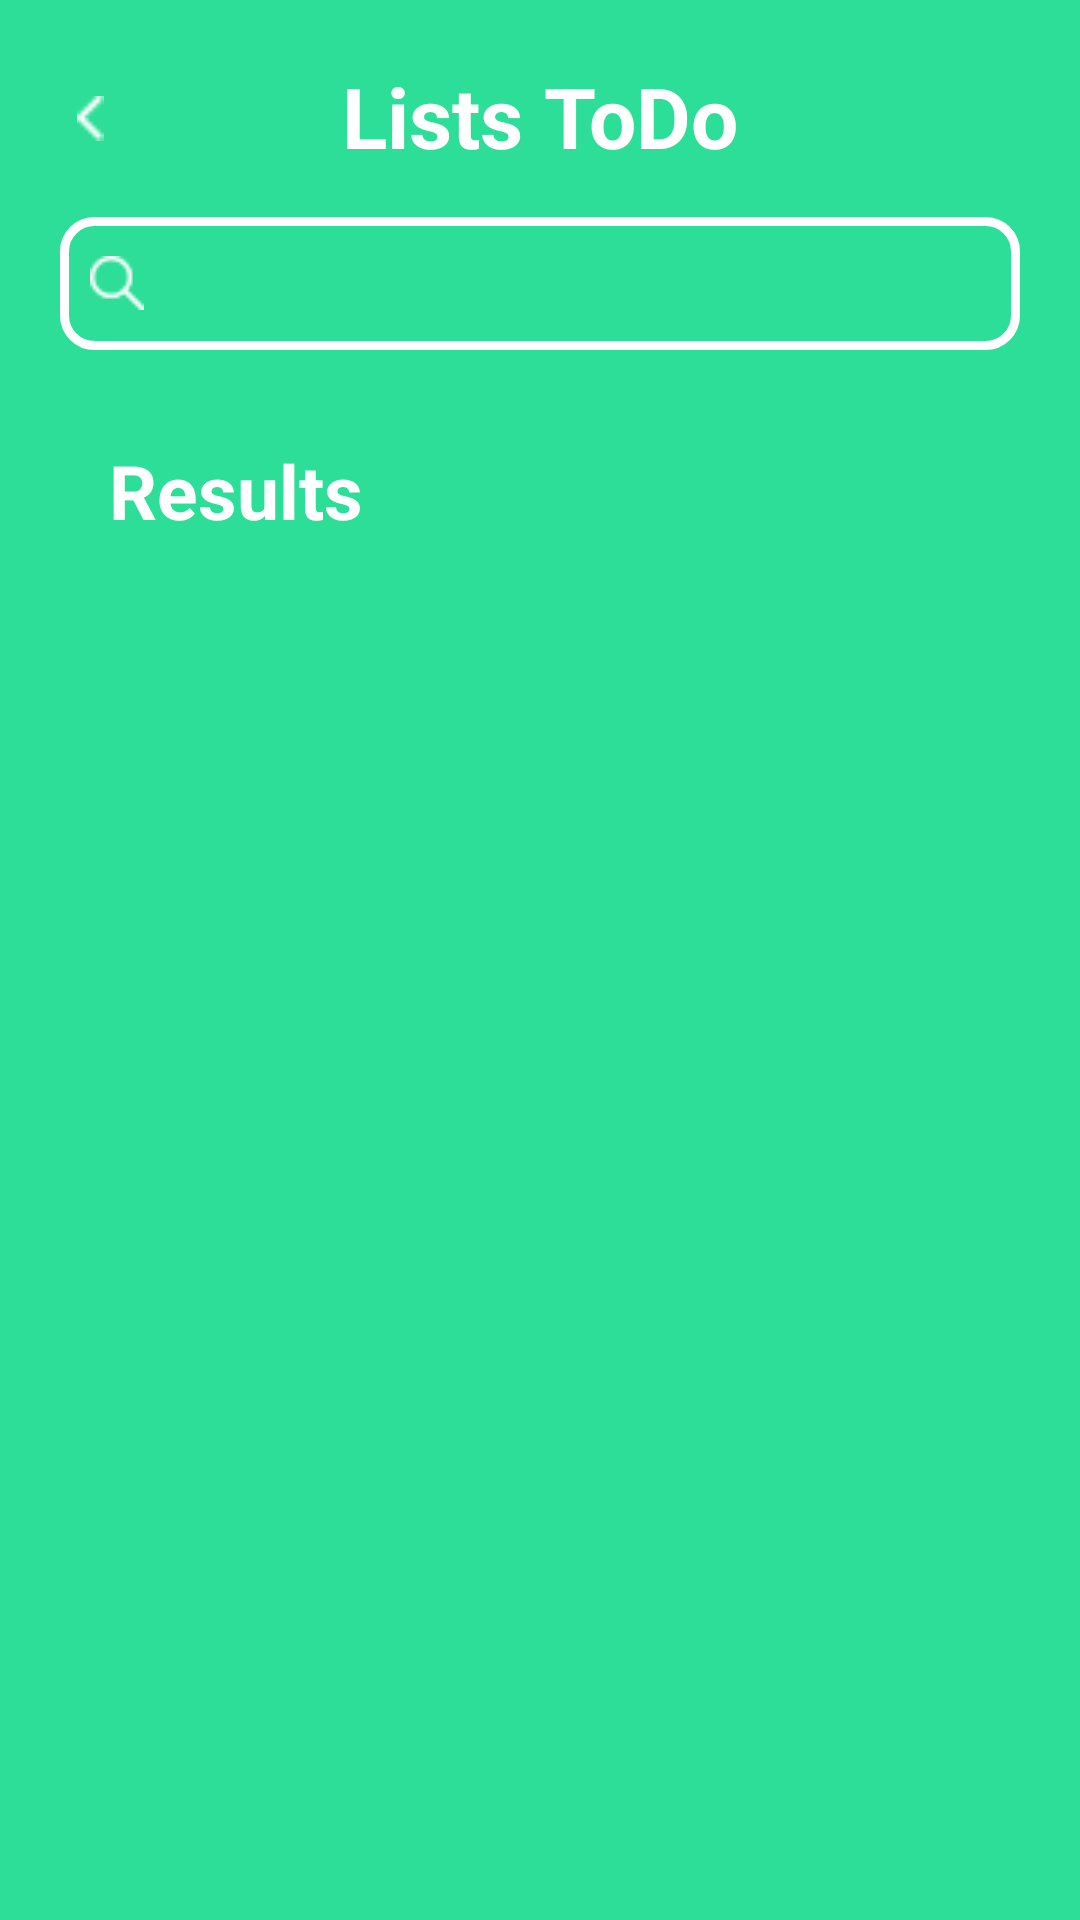

Point at icon controls on the screen. Image size 1080 x 1920, points as (x=x, y=y).
back: (x=90, y=118)
